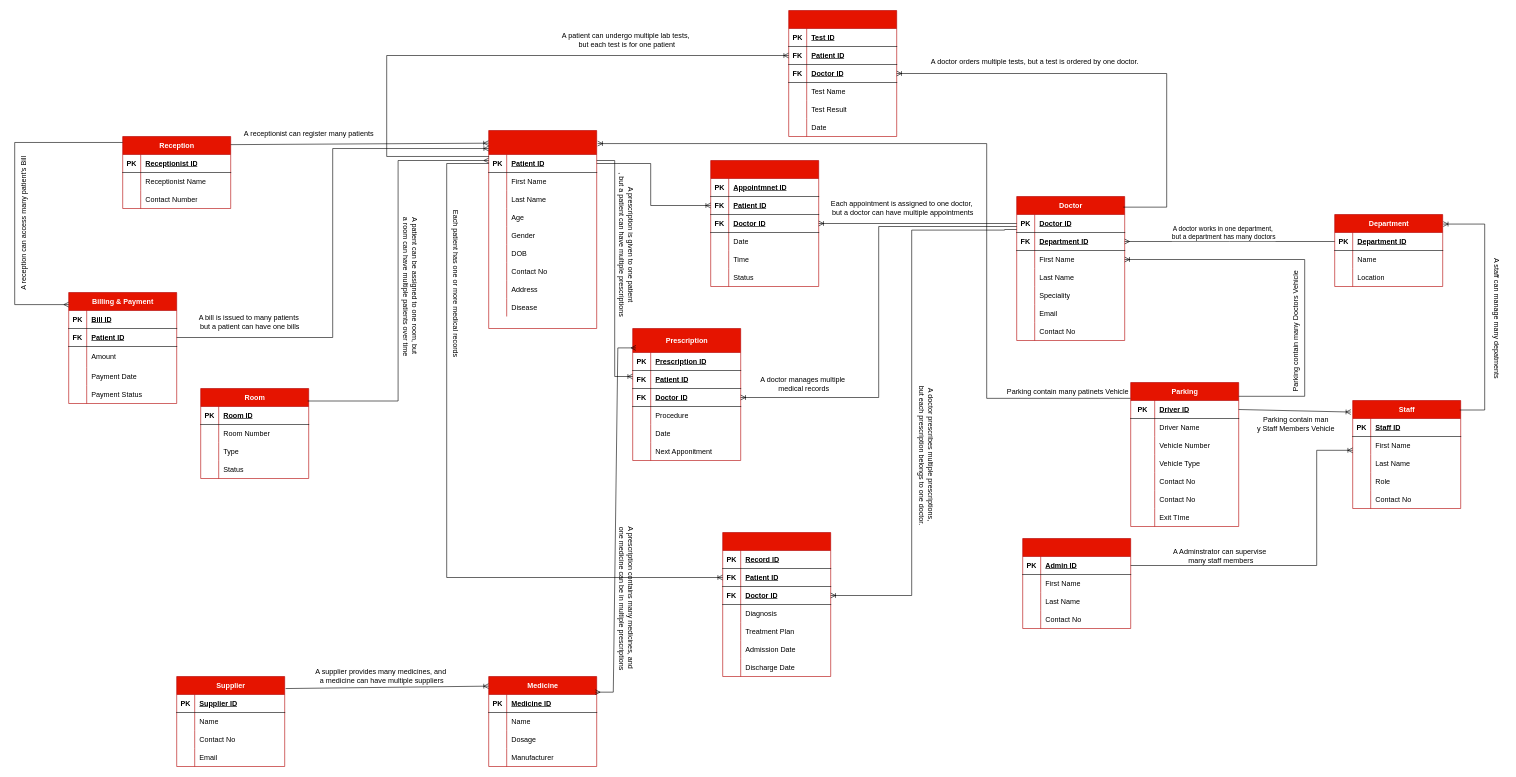
Some shapes in this 1516 by 777 pixel diagram are drawn without their labels. The shapes that lost their labels are listed below. From the top down, each one's box as (x1, y1, x2, y2) in pixels, then its label:
(788, 10, 897, 136): Laboratory Test
(488, 130, 597, 328): Patinent
(710, 160, 819, 286): Appointment
(1022, 538, 1131, 628): Hospital Adminstrator
(722, 532, 831, 676): Medical Record
